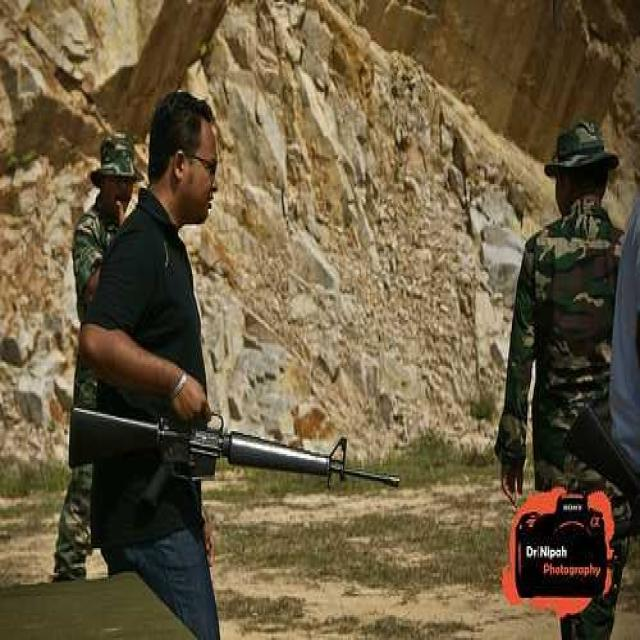Rifle: (62, 382, 415, 532)
